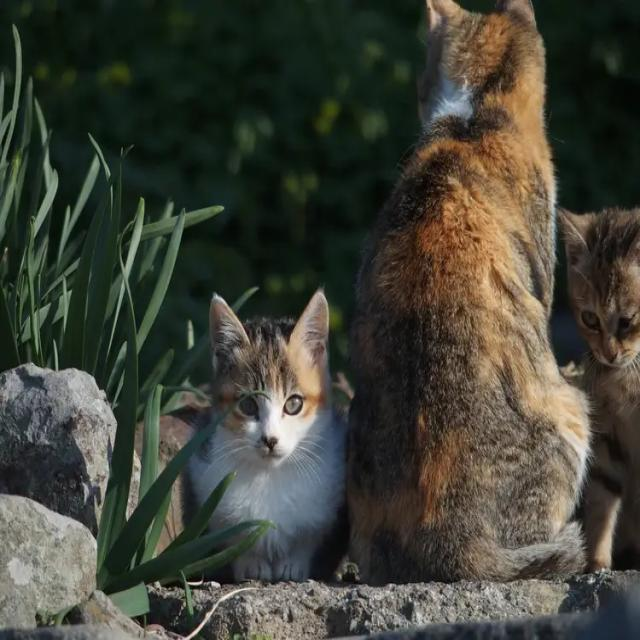cat: (348, 0, 589, 584), (186, 290, 348, 580), (559, 208, 640, 569)
